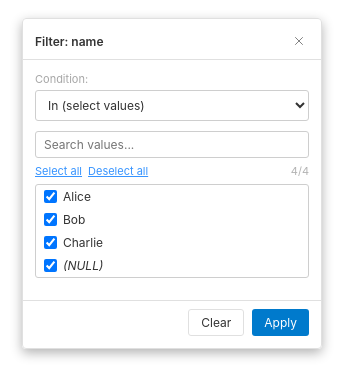
it: FilterPopup › IN filter with distinct values › Select all button works after deselect
Select "In (select values)" in the dropdown at (172, 106), box [35, 90, 309, 121]
Click the button "Deselect all" at (118, 171), box [88, 164, 148, 178]
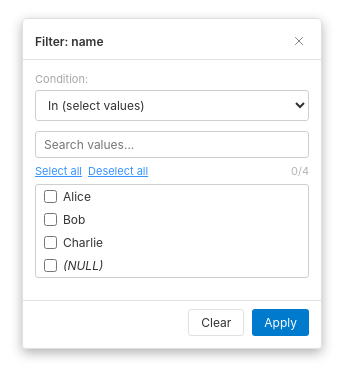
Click the button "Select all" at (58, 171), box [35, 164, 82, 178]
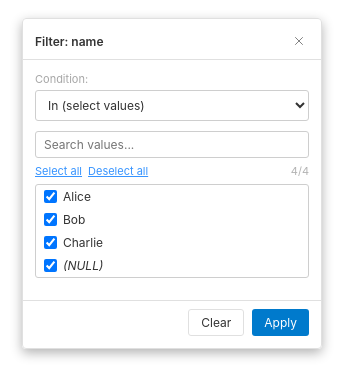
Check: the checkbox labelled "Alice" is checked, box [44, 190, 57, 203]
Check: the checkbox labelled "Bob" is checked, box [44, 213, 57, 226]
Check: the checkbox labelled "Charlie" is checked, box [44, 236, 57, 249]
